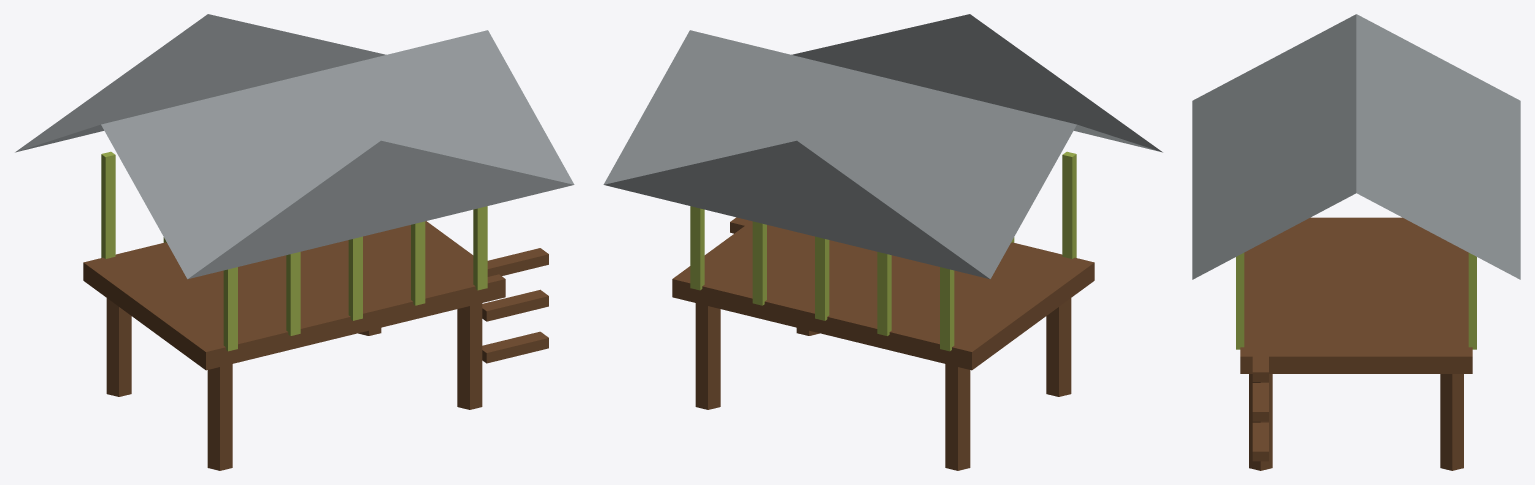
File: kandang_ayam.obj
3 renders of one model, left to right at view 1: azimuth 30°, elevation 25°; view 2: azimuth 150°, elevation 25°; view 3: azimuth 270°, elevation 25°, orthographic. The views are drawn at different scales.
Parts seen in each view (by area): view 1: roof, floor, leg, slat_f, ladder, slat_b; view 2: roof, floor, leg, slat_b, slat_f; view 3: roof, floor, leg, ladder, slat_f, slat_b.
Part boxes in pixels (bbox=[...]): roof: bbox=[15, 14, 574, 279]; floor: bbox=[83, 221, 505, 370]; leg: bbox=[106, 298, 482, 470]; slat_f: bbox=[223, 206, 487, 351]; ladder: bbox=[482, 248, 548, 363]; slat_b: bbox=[101, 151, 166, 258]; roof: bbox=[603, 14, 1162, 279]; floor: bbox=[672, 221, 1094, 370]; leg: bbox=[695, 298, 1071, 470]; slat_b: bbox=[690, 206, 954, 351]; slat_f: bbox=[1011, 151, 1076, 258]; roof: bbox=[1192, 14, 1520, 279]; floor: bbox=[1240, 217, 1472, 373]; leg: bbox=[1249, 374, 1463, 470]; ladder: bbox=[1252, 343, 1268, 461]; slat_f: bbox=[1236, 253, 1244, 349]; slat_b: bbox=[1468, 253, 1476, 349].
Bounding box in the file's own units: 3.15 × 2.45 × 2.4.
